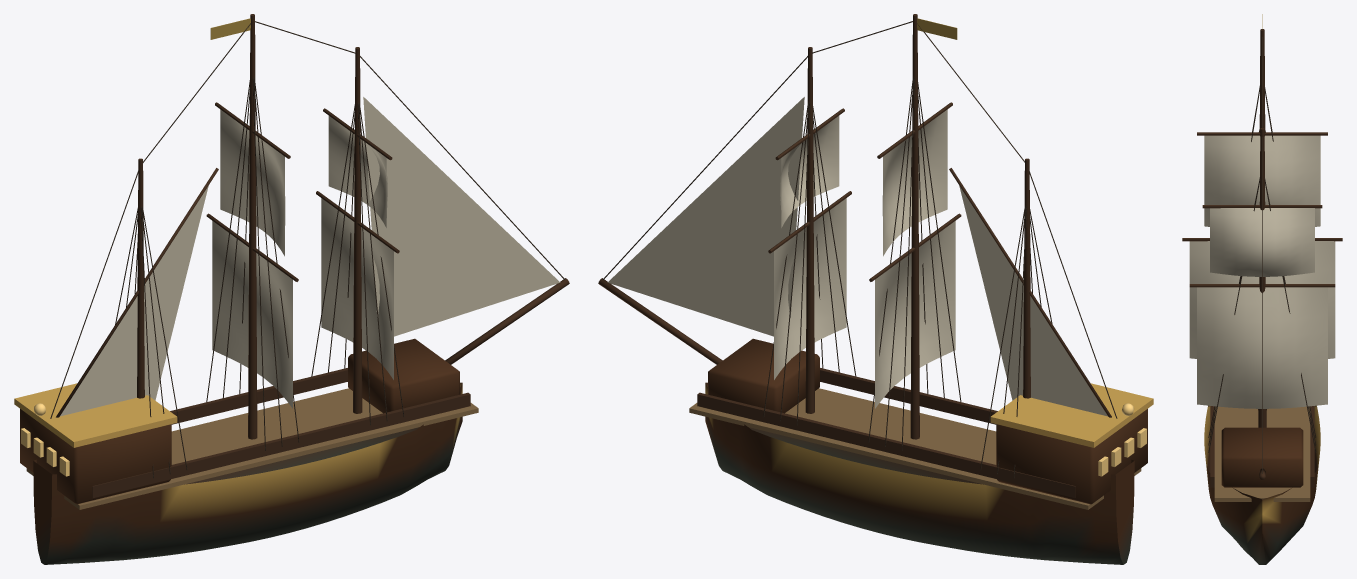
File: merchant_ship.glb
3 views of the same model, side by side, from view 1: azimuth 30°, elevation 25°; view 2: azimuth 150°, elevation 25°; view 3: azimuth 270°, elevation 25° (orthographic). The views are drawn at different scales.
Visible parts, largest first — view 1: merchant_ship; view 2: merchant_ship; view 3: merchant_ship.
Boxes of the visible parts, box(x1,y1,x2,y2) form: merchant_ship: box(14, 14, 569, 564); merchant_ship: box(598, 14, 1153, 564); merchant_ship: box(1182, 14, 1342, 564).
Size of the model in its own units: 3.82 by 3.55 by 1.1.
